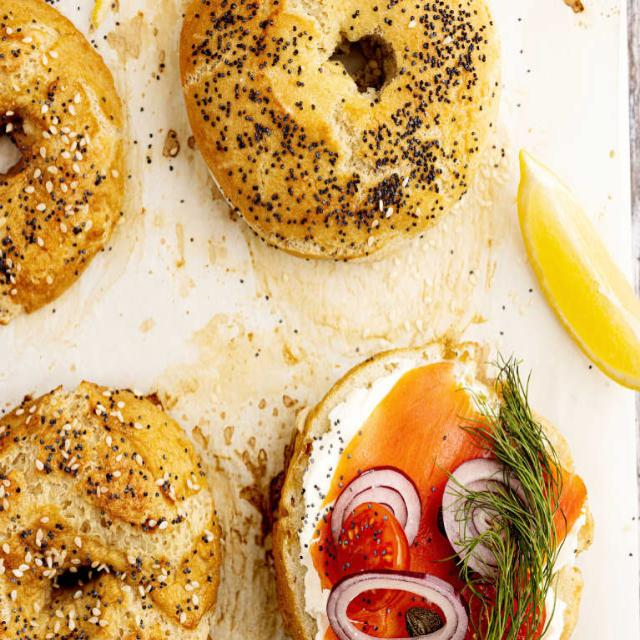Bagel: (180, 0, 499, 259), (0, 381, 220, 638), (0, 0, 125, 323)
